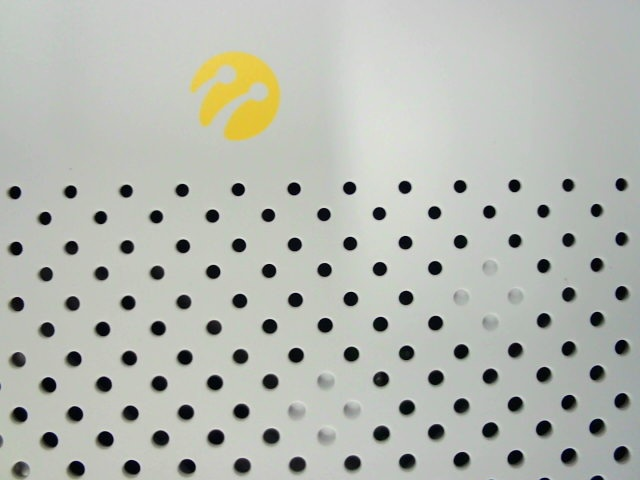AV_H3600Yellow: (179, 40, 303, 147)
